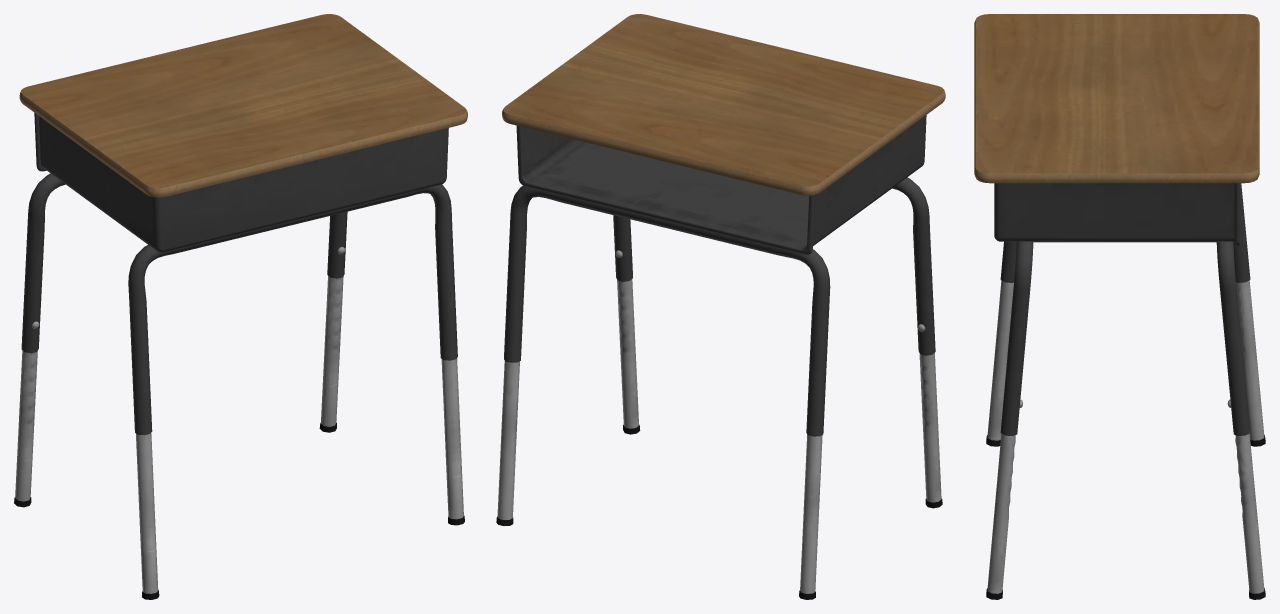
Rendered from SchoolDesk_01.glb.
The picture shows the model from 3 angles, left to right: view 1: azimuth 30°, elevation 25°; view 2: azimuth 150°, elevation 25°; view 3: azimuth 270°, elevation 25°; orthographic projection. The views are drawn at different scales.
Parts seen in each view (by area): view 1: SchoolDesk_01; view 2: SchoolDesk_01; view 3: SchoolDesk_01.
Boxes of the visible parts, x1,y1,x2,y2 form: SchoolDesk_01: (14,14,467,599); SchoolDesk_01: (496,14,945,599); SchoolDesk_01: (974,14,1265,599).
Bounding box in the file's own units: 0.7117 × 0.8826 × 0.546.
Materials: 1 (1 with a texture image).
